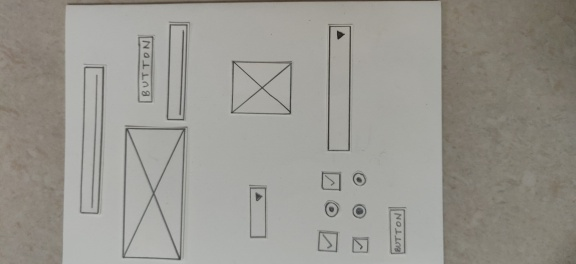button: (134, 32, 157, 107), (386, 203, 409, 258)
checkbox: (315, 227, 341, 254), (317, 169, 344, 194), (348, 234, 371, 256)
dropdown: (323, 23, 356, 155), (245, 181, 271, 242)
img: (120, 123, 187, 262), (227, 57, 294, 119)
radio: (349, 201, 369, 222), (322, 199, 342, 219), (349, 170, 369, 189)
text: (77, 61, 107, 217), (164, 20, 190, 121)
